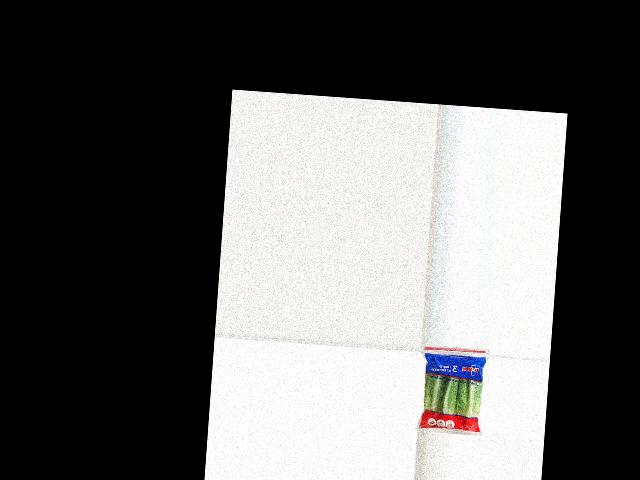lettuce: (418, 349, 489, 435)
